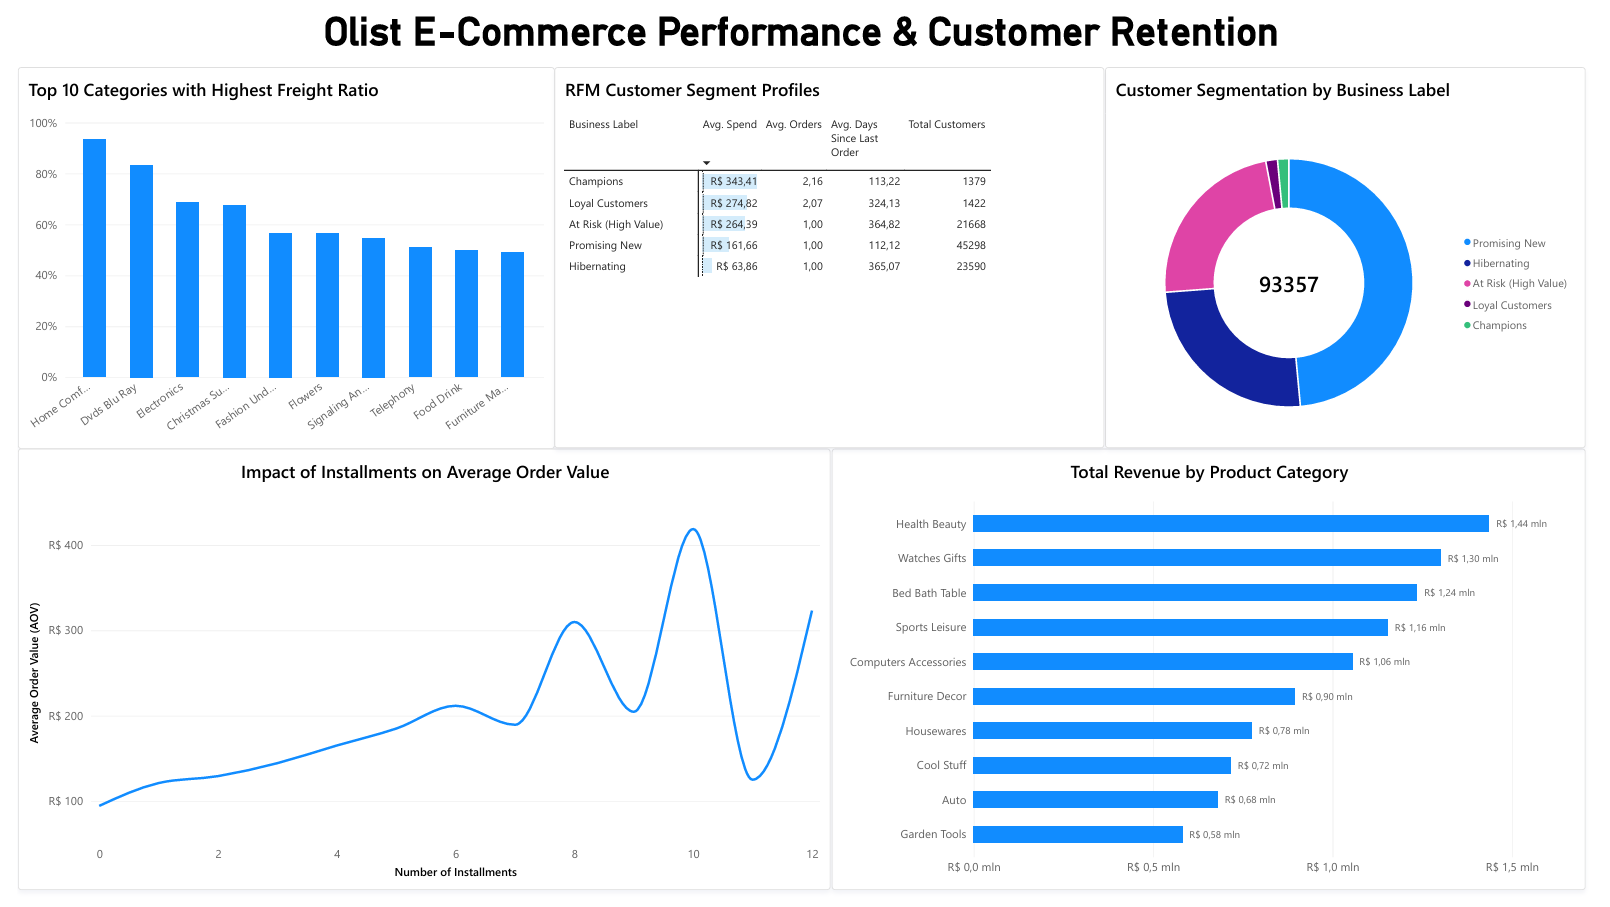

What the dashboard file says about the page in this screenshot:
{"tool":"powerbi","page":{"name":"Strona 1","canvas":[1920,1080],"ordinal":0},"visuals":[{"type":"barChart","title":"Total Revenue by Product Category","fields":{"Category":["public dim_products_en.product_category_name_english"],"Y":["Sum(public fact_order_items_metrics.total_item_value)"]},"box":[996.2,538.8,923.8,541.2],"z":0},{"type":"clusteredColumnChart","title":"Top 10 Categories with Highest Freight Ratio","fields":{"Category":["public dim_products_en.product_category_name_english"],"Y":["Avg(public fact_order_items_metrics.freight_ratio)"]},"box":[0,72.5,657.5,467.5],"z":1},{"type":"lineChart","title":"Impact of Installments on Average Order Value","fields":{"Category":["public fact_payments_agg.max_installments"],"Y":["Avg(public fact_payments_agg.total_payment_value)"]},"box":[0,539.3,996.2,541.3],"z":2},{"type":"donutChart","title":"Customer Segmentation by Business Label","fields":{"Category":["public analytics_rfm_segments.Business_Label"],"Y":["CountNonNull(public analytics_rfm_segments.customer_unique_id)"]},"box":[1331.7,72,588.7,467.2],"z":3},{"type":"pivotTable","title":"RFM Customer Segment Profiles","fields":{"Rows":["public analytics_rfm_segments.Business_Label"],"Values":["Avg(public analytics_rfm_segments.monetary)","Avg(public analytics_rfm_segments.frequency)","Avg(public analytics_rfm_segments.recency)","Count(public analytics_rfm_segments.customer_unique_id)"]},"box":[657.8,72.2,674.4,466.7],"z":4},{"type":"textbox","box":[0,0,1920,72.5],"z":5}]}

Visuals, with their boxes in screenshot pixels (x1, y1, x2, y2), scaled from the page's 1920x1080 canvas onto the 1610x907 screenshot:
"Total Revenue by Product Category" barChart: {"x1": 835, "y1": 452, "x2": 1609, "y2": 906}
"Top 10 Categories with Highest Freight Ratio" clusteredColumnChart: {"x1": 0, "y1": 61, "x2": 551, "y2": 454}
"Impact of Installments on Average Order Value" lineChart: {"x1": 0, "y1": 453, "x2": 835, "y2": 906}
"Customer Segmentation by Business Label" donutChart: {"x1": 1117, "y1": 60, "x2": 1609, "y2": 453}
"RFM Customer Segment Profiles" pivotTable: {"x1": 552, "y1": 61, "x2": 1117, "y2": 453}
textbox: {"x1": 0, "y1": 0, "x2": 1609, "y2": 61}
